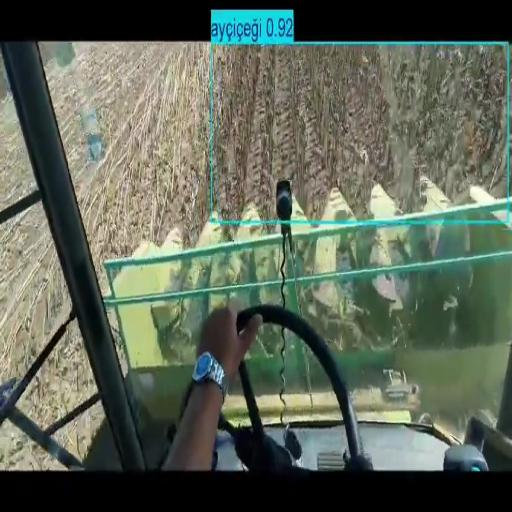ayc: (205, 45, 506, 219)
